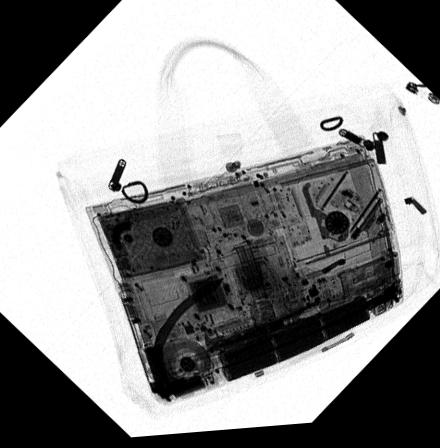Scissors: (205, 302, 326, 357)
